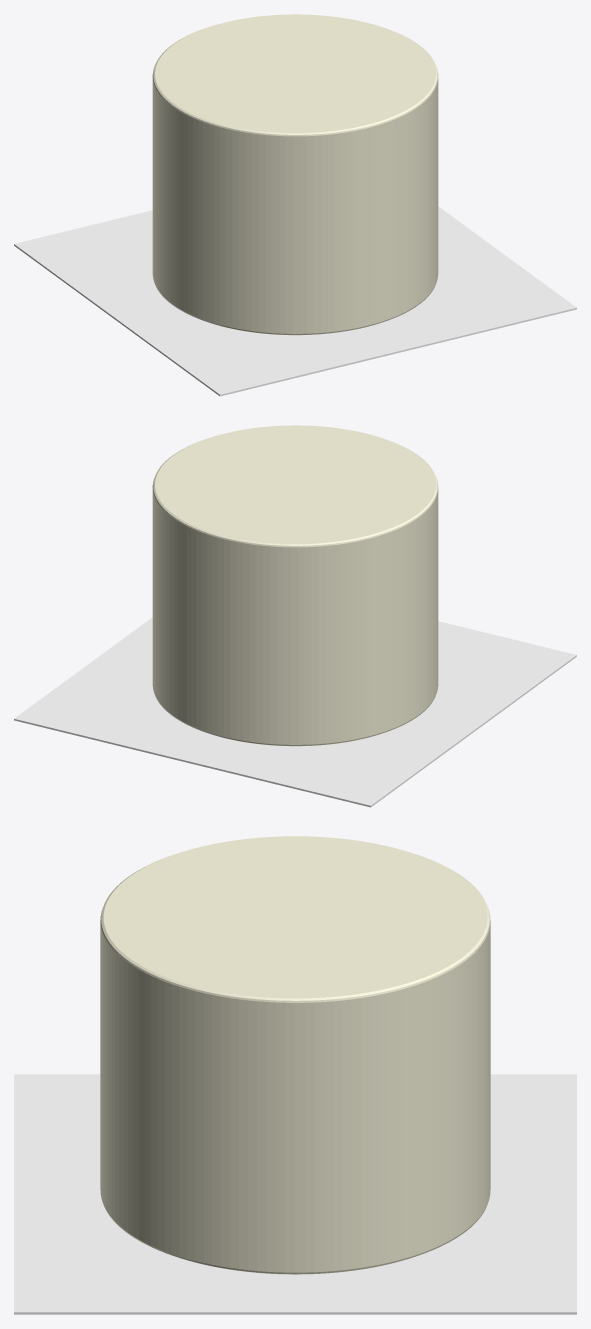
File: cake_6in_layers3_v26.glb
The picture shows the model from 3 angles, top to bottom: view 1: azimuth 30°, elevation 25°; view 2: azimuth 150°, elevation 25°; view 3: azimuth 270°, elevation 25°; orthographic projection. The views are drawn at different scales.
Visible parts, largest first — view 1: Cake, Board; view 2: Cake, Board; view 3: Cake, Board.
Boxes of the visible parts, bbox=[...] form: Cake: bbox=[152, 14, 438, 335]; Board: bbox=[14, 206, 576, 396]; Cake: bbox=[152, 425, 438, 746]; Board: bbox=[14, 617, 576, 807]; Cake: bbox=[100, 836, 490, 1274]; Board: bbox=[14, 1074, 576, 1314].
Size of the model in its own units: 0.22 by 0.12 by 0.22.
